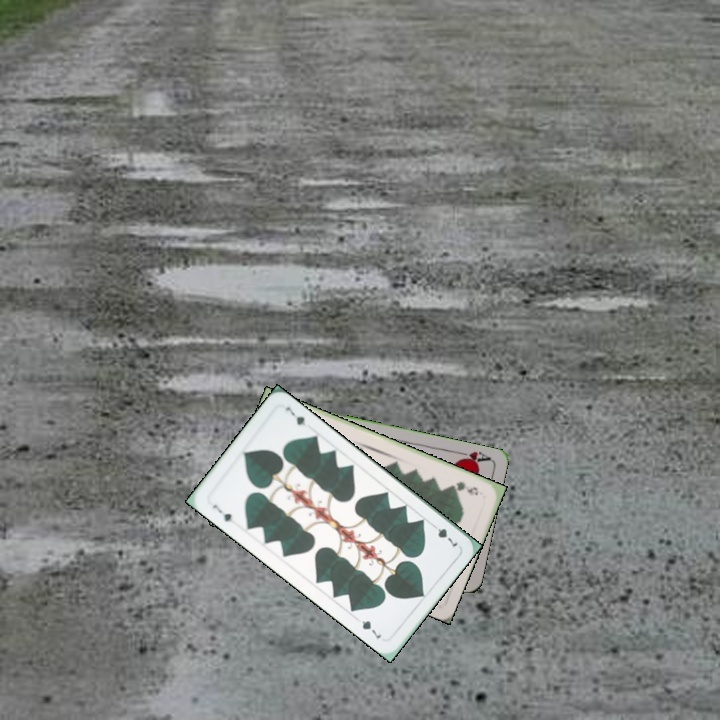G7: (427, 519, 461, 550), (209, 500, 235, 524)
G9: (447, 477, 481, 498)
HA: (452, 447, 493, 468)
